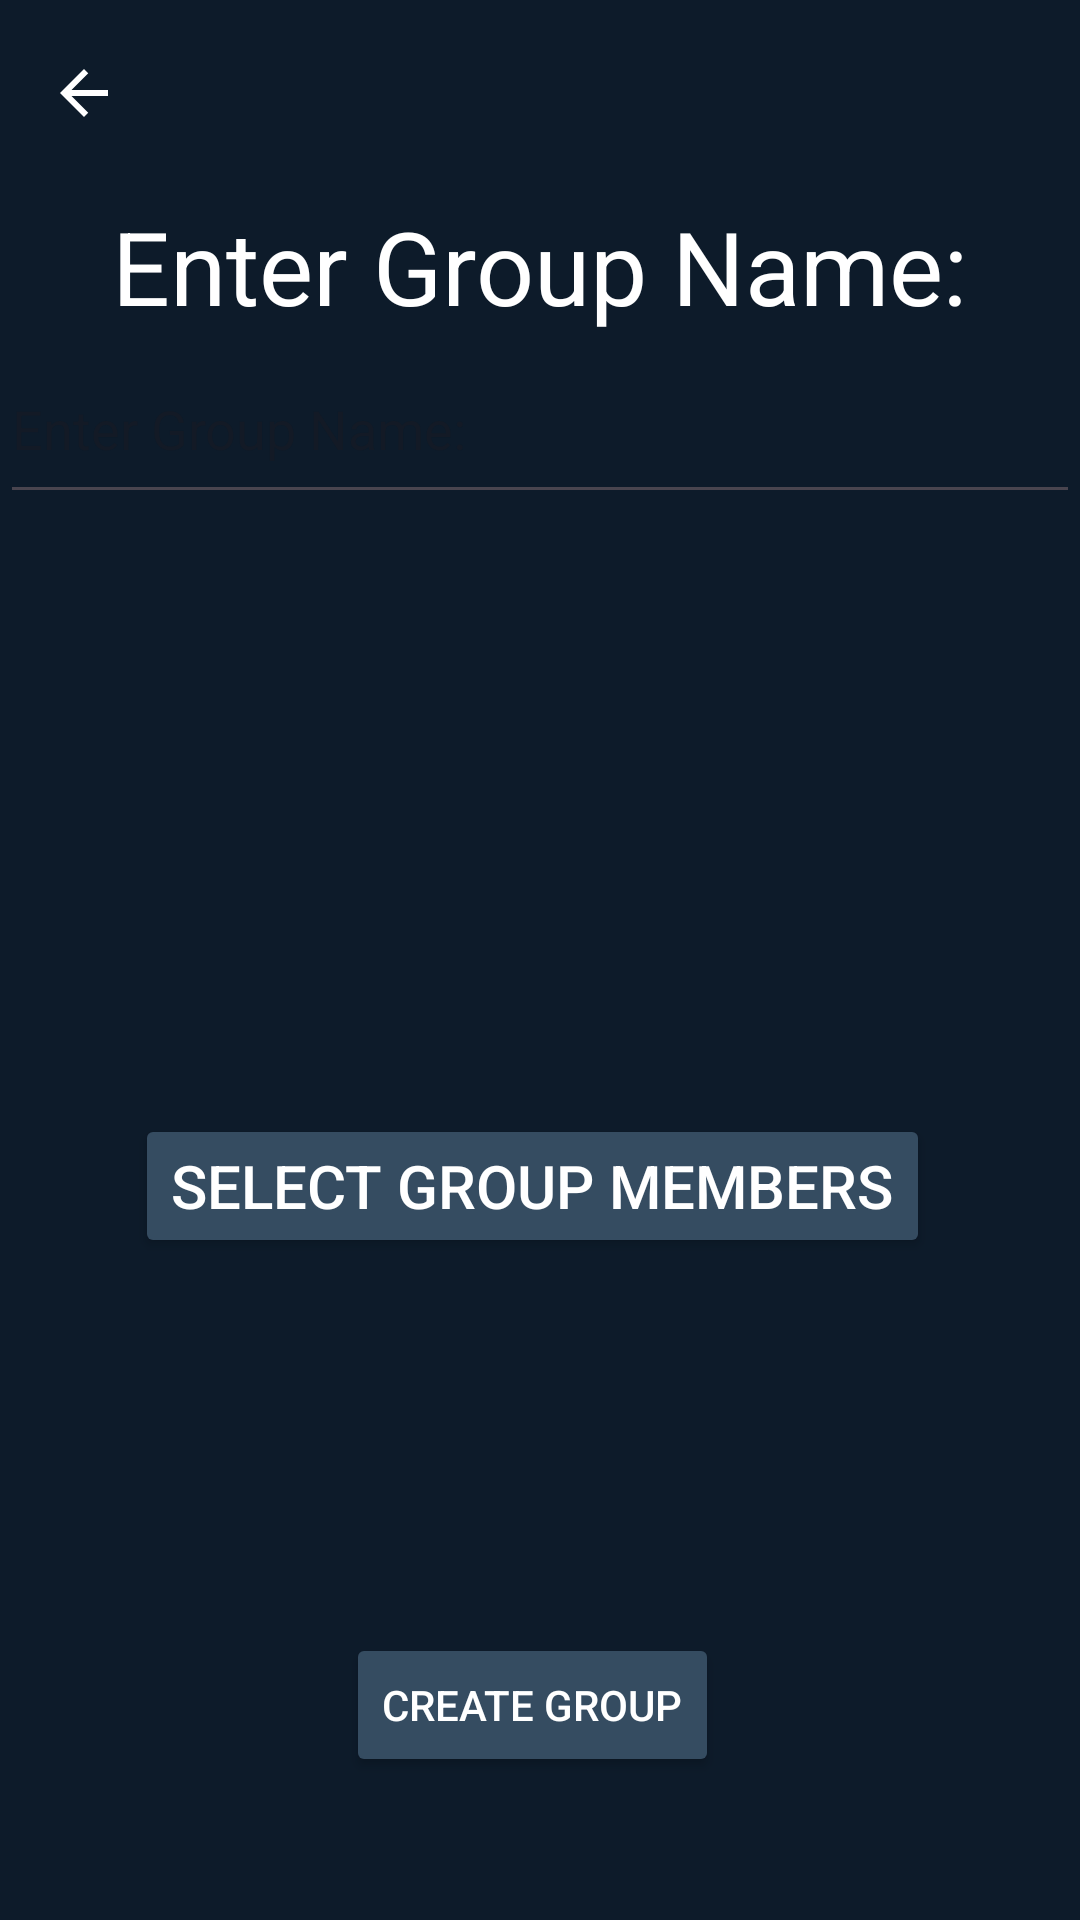

Screen size 1080w x 1920h. Icon name, then its box in pixels as (x1, y1, x2, y2):
back arrow: (60, 69, 108, 117)
